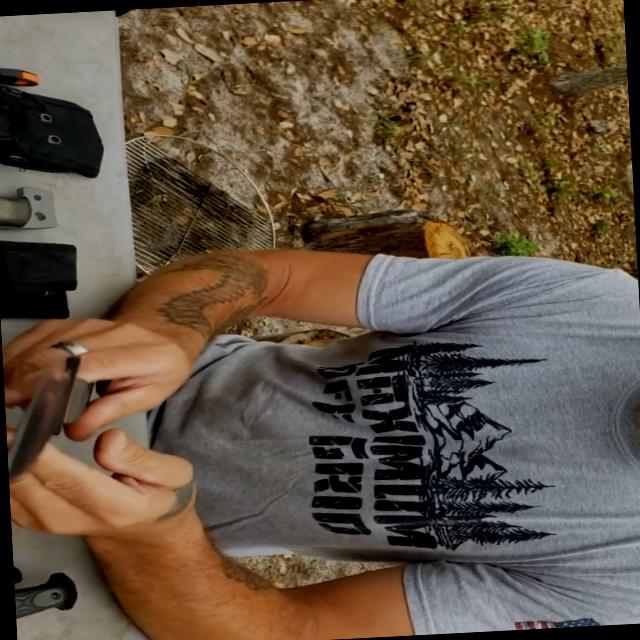knife: (1, 330, 130, 500)
